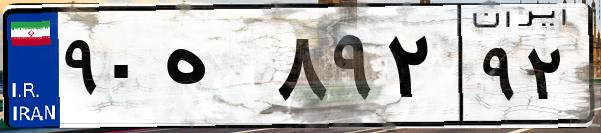0: (110, 28, 158, 98)
2: (385, 28, 445, 110), (525, 38, 570, 115)
8: (270, 28, 330, 110)
9: (330, 28, 385, 110), (57, 26, 110, 100), (475, 38, 525, 113)
ه: (158, 20, 270, 120)
